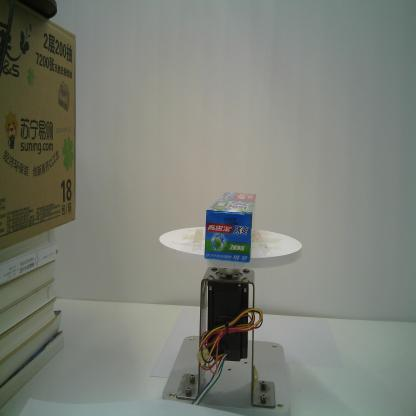Personal Hygiene: (203, 189, 258, 264)
